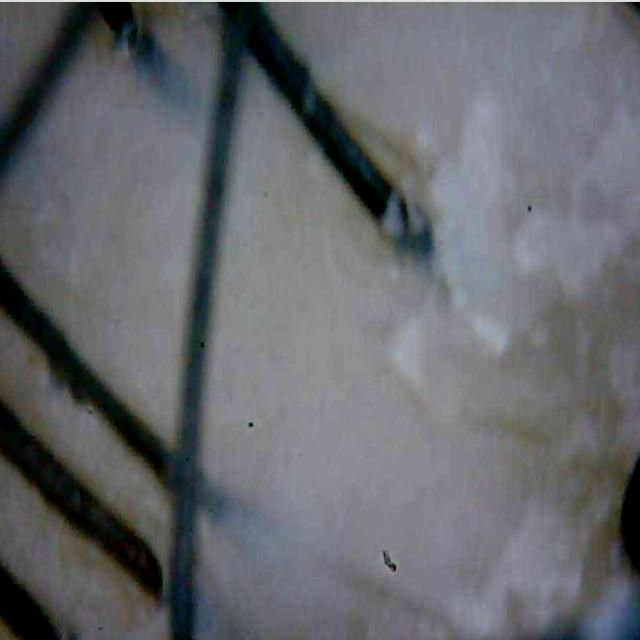d: (433, 62, 519, 364), (511, 201, 638, 308), (383, 273, 445, 440)
